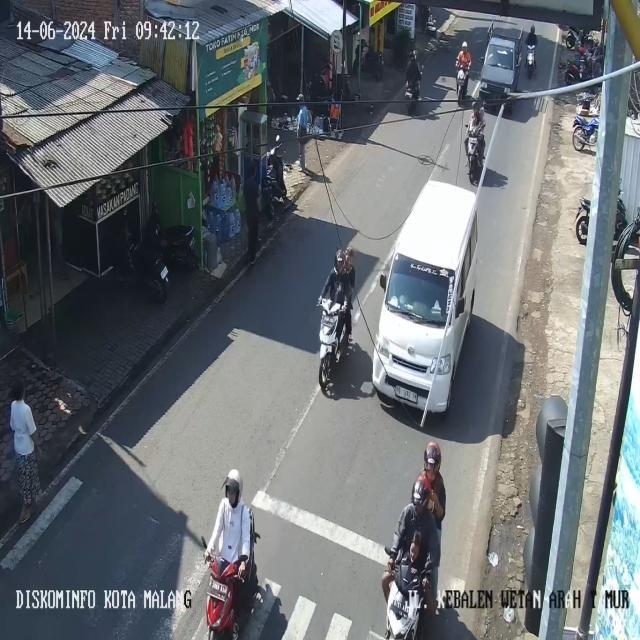Helmet: (224, 469, 242, 499), (424, 441, 441, 469), (412, 479, 427, 505), (335, 249, 344, 268), (472, 100, 480, 112), (409, 50, 415, 59), (462, 41, 468, 49), (530, 24, 534, 33)
Number Plate: (395, 386, 417, 403), (210, 580, 227, 600), (161, 266, 167, 278)
Rearview Mirror: (456, 298, 465, 317), (379, 273, 387, 290), (200, 536, 206, 549), (275, 134, 280, 143)
